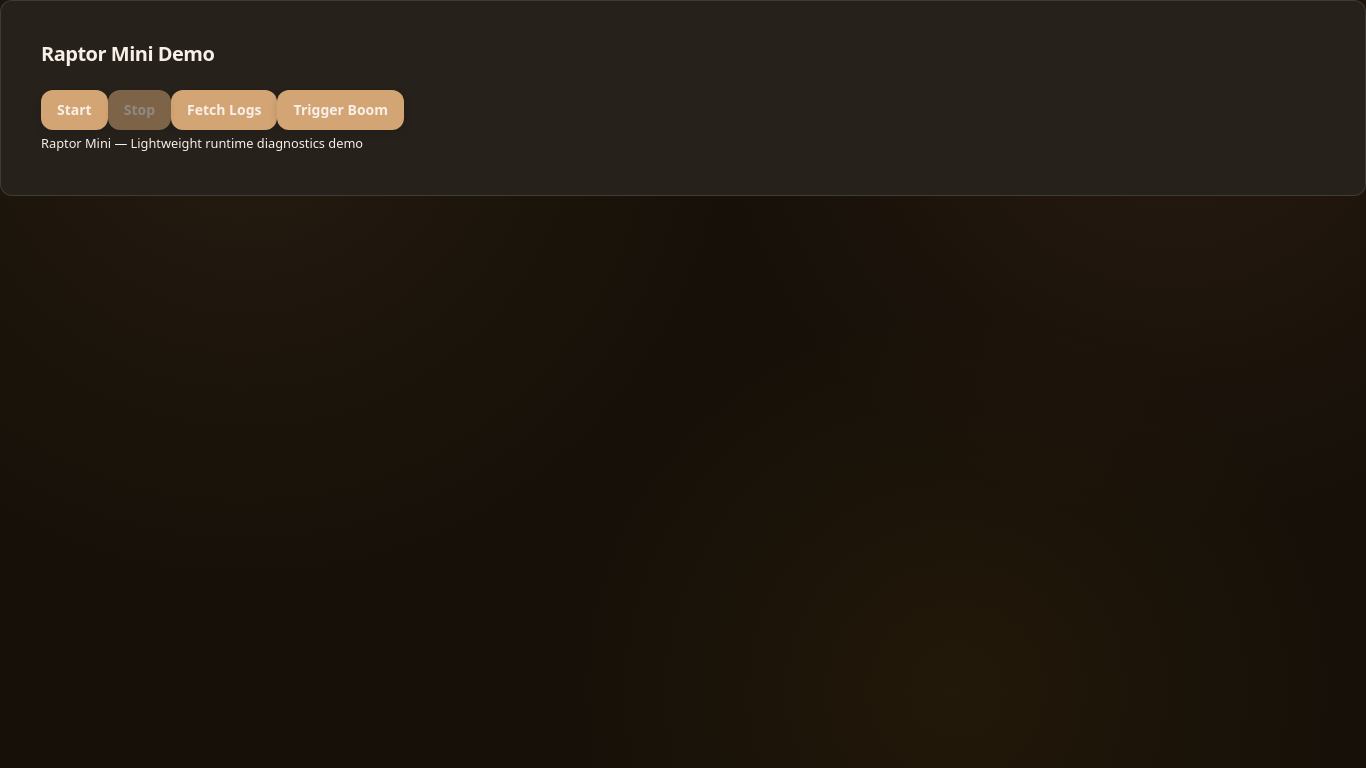
it: RaptorMiniPanel › fetches logs
Click the button "Fetch Logs".
click(224, 110)  # box [171,90,278,130]
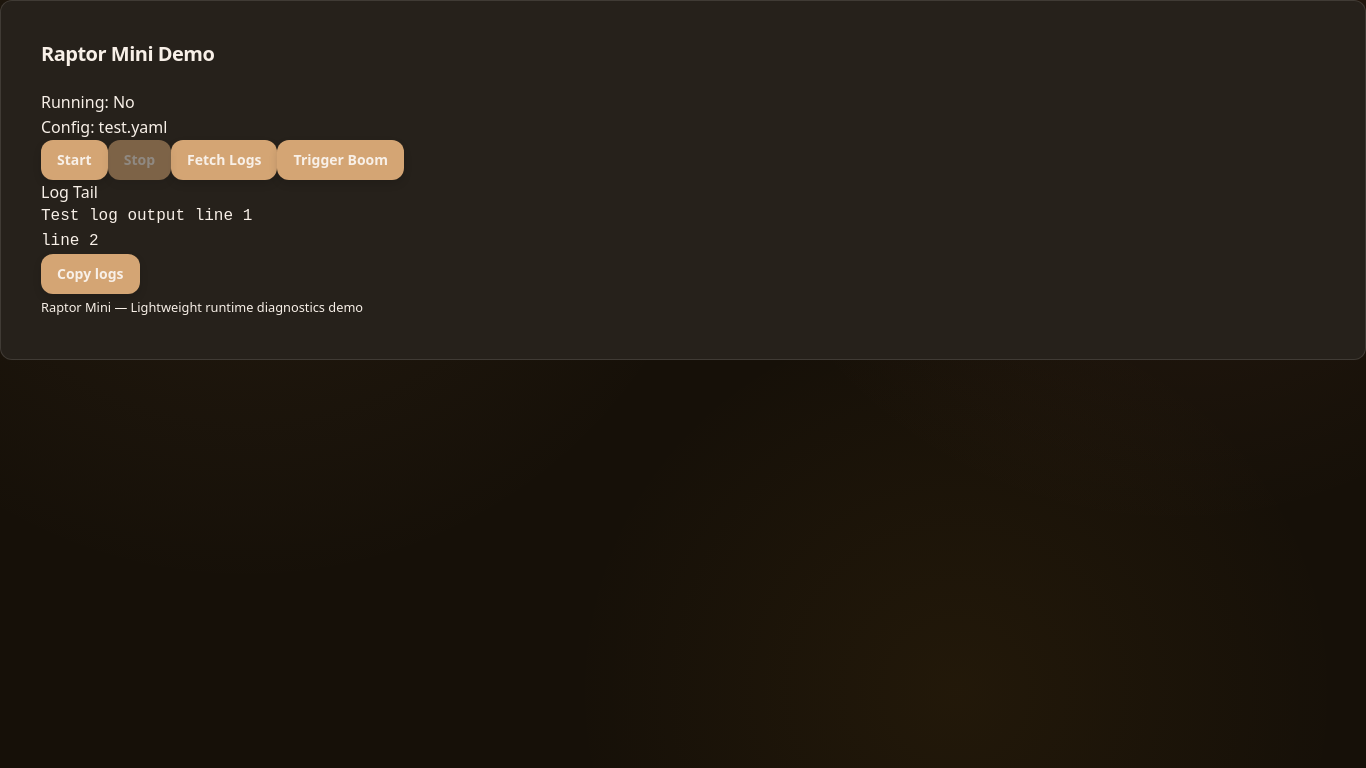
Now the text "Test log output line 1 line 2" is shown, box [41,207,252,250]
